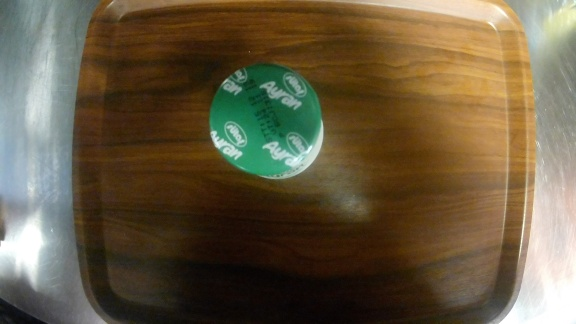ayran: (203, 58, 340, 189)
